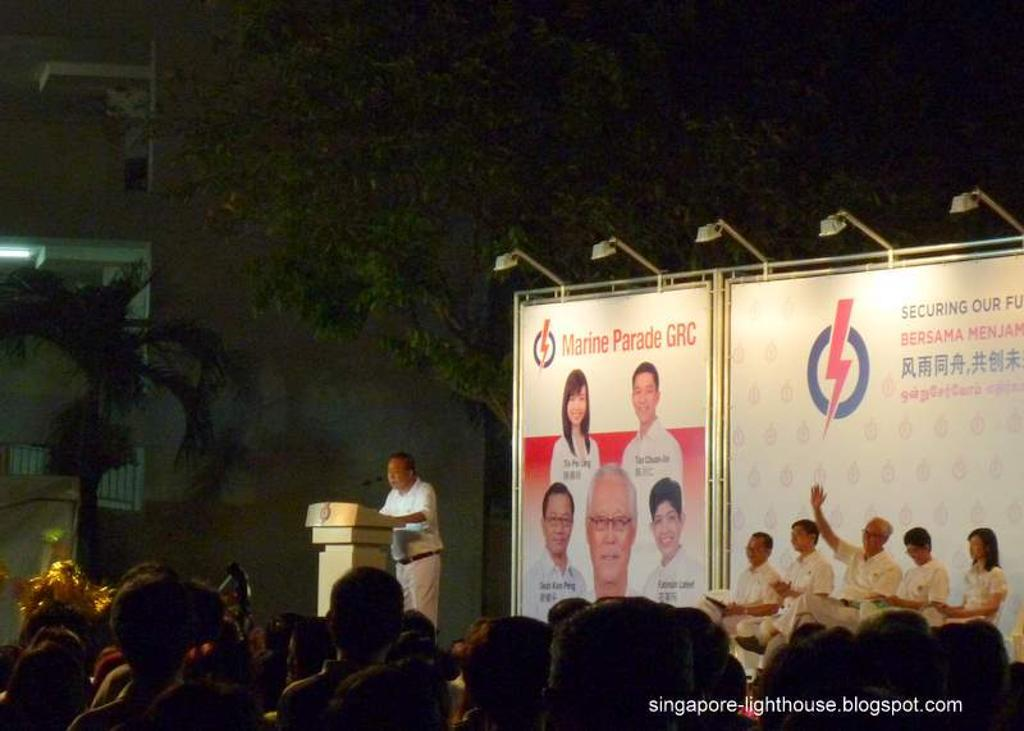face: (590, 476, 633, 583), (545, 493, 573, 553), (654, 507, 681, 555), (634, 376, 655, 422), (567, 387, 587, 425), (388, 460, 409, 489), (863, 526, 882, 550), (792, 526, 810, 551), (748, 539, 766, 563), (908, 544, 927, 564), (971, 537, 985, 558)
